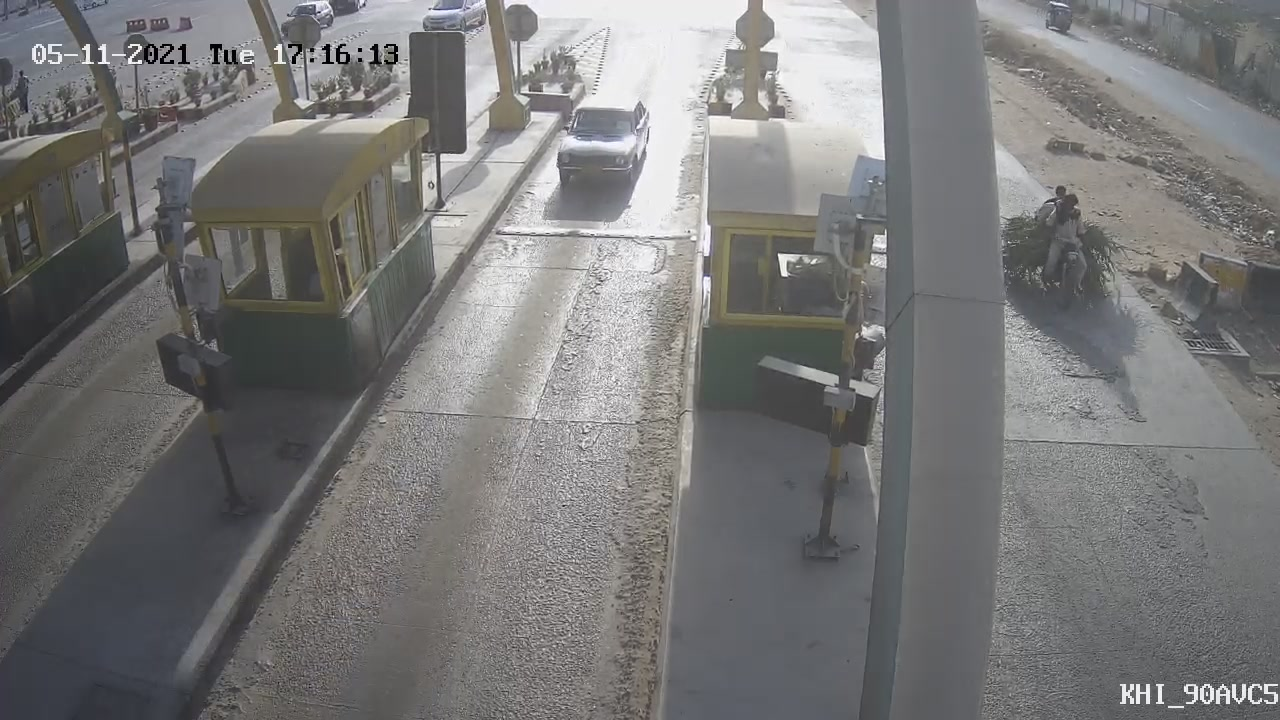F1: (533, 83, 670, 198)
